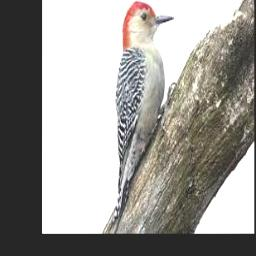Woodpecker: (104, 1, 174, 233)
